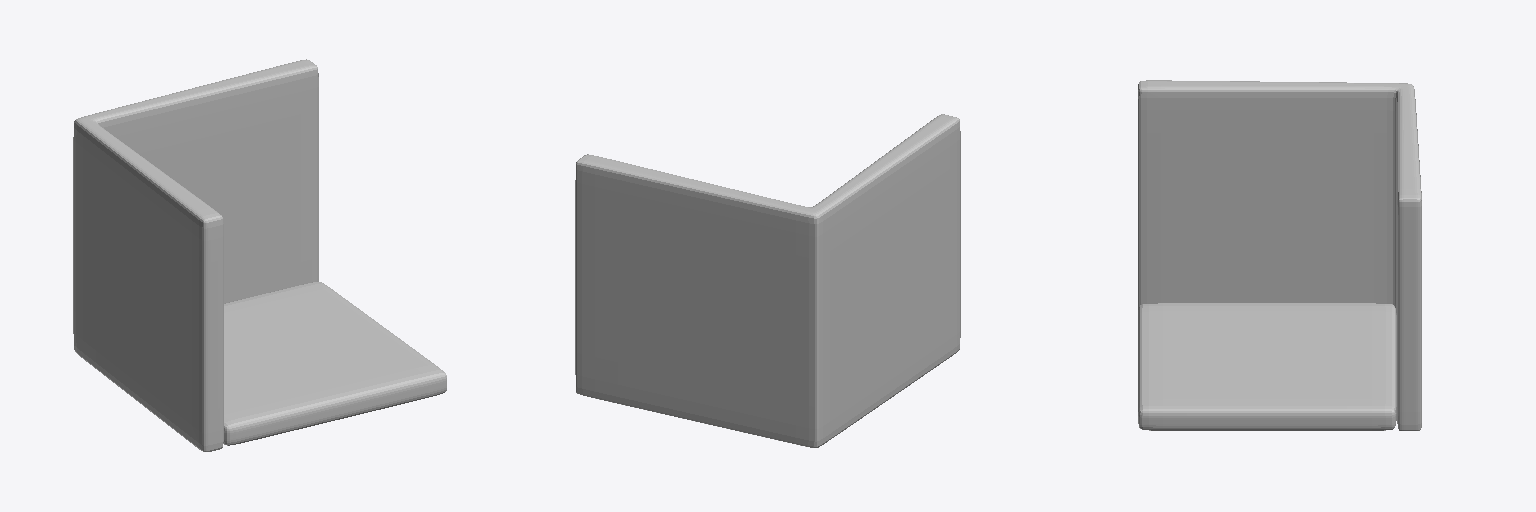
Rendered from iso.obj.
3 renders of one model, left to right at view 1: azimuth 30°, elevation 25°; view 2: azimuth 150°, elevation 25°; view 3: azimuth 270°, elevation 25°, orthographic.
Parts seen in each view (by area): view 1: Wall, Floor; view 2: Wall; view 3: Wall, Floor.
Boxes of the visible parts, box(x1,y1,x2,y2) form: Wall: box(73, 59, 318, 451); Floor: box(223, 282, 446, 445); Wall: box(575, 114, 960, 447); Wall: box(1138, 80, 1421, 430); Floor: box(1138, 303, 1396, 430).
Bounding box in the file's own units: 2.2 × 2 × 2.2.